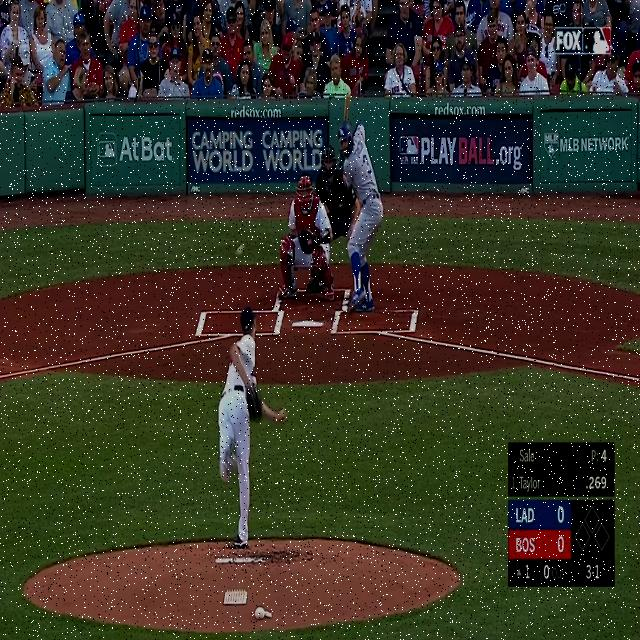baseball: (236, 244, 245, 256)
